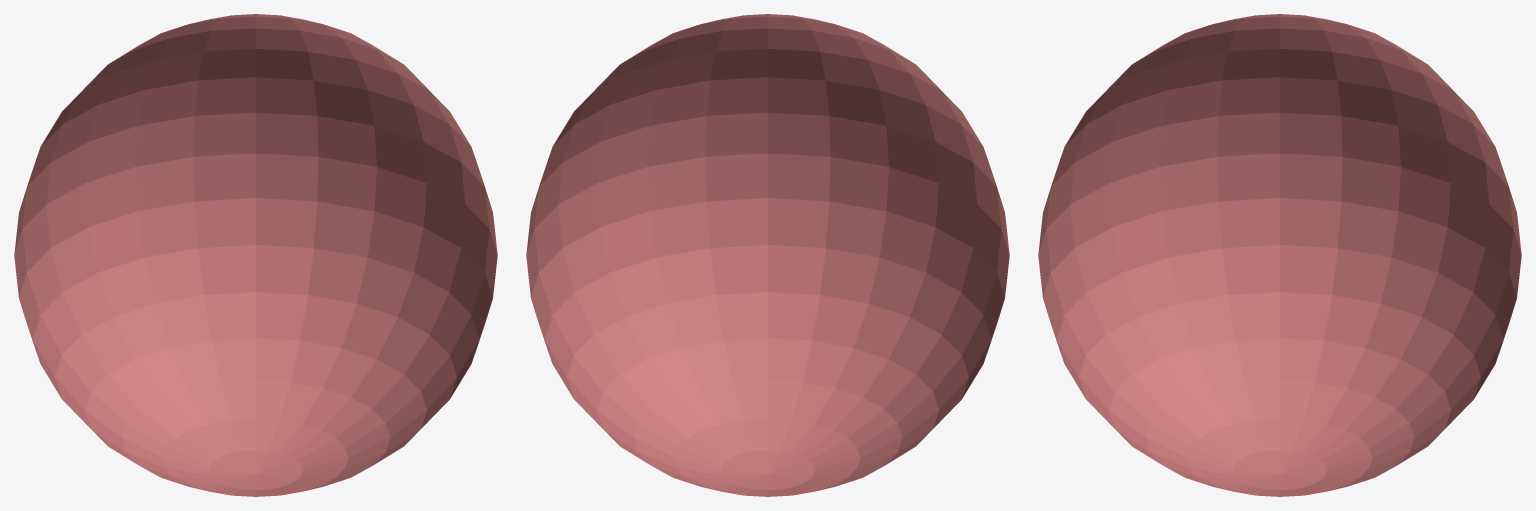
The model's file is 3d-elementary-sphere-red-20260125.glb.
The picture shows the model from 3 angles, left to right: view 1: azimuth 30°, elevation 25°; view 2: azimuth 150°, elevation 25°; view 3: azimuth 270°, elevation 25°; orthographic projection.
Parts seen in each view (by area): view 1: Sphere; view 2: Sphere; view 3: Sphere.
Boxes of the visible parts, box(x1,y1,x2,y2) form: Sphere: box(14, 14, 497, 496); Sphere: box(526, 14, 1009, 496); Sphere: box(1038, 14, 1521, 496).
Size of the model in its own units: 2 by 2 by 2.
